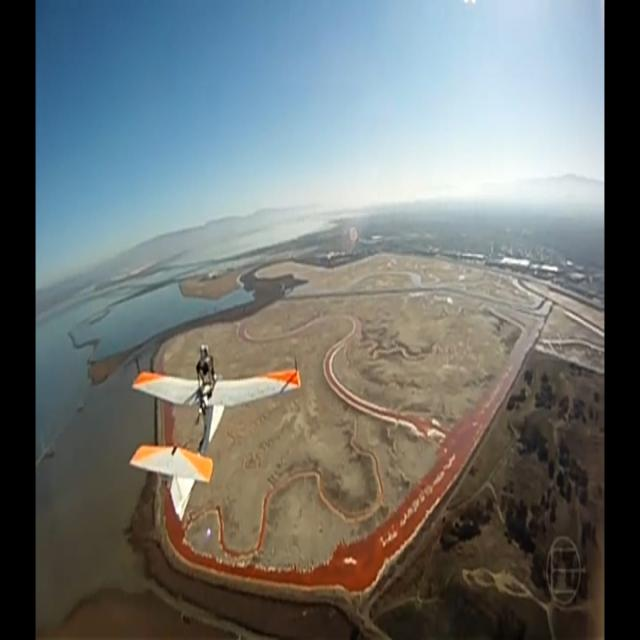iha: (129, 342, 303, 523)
